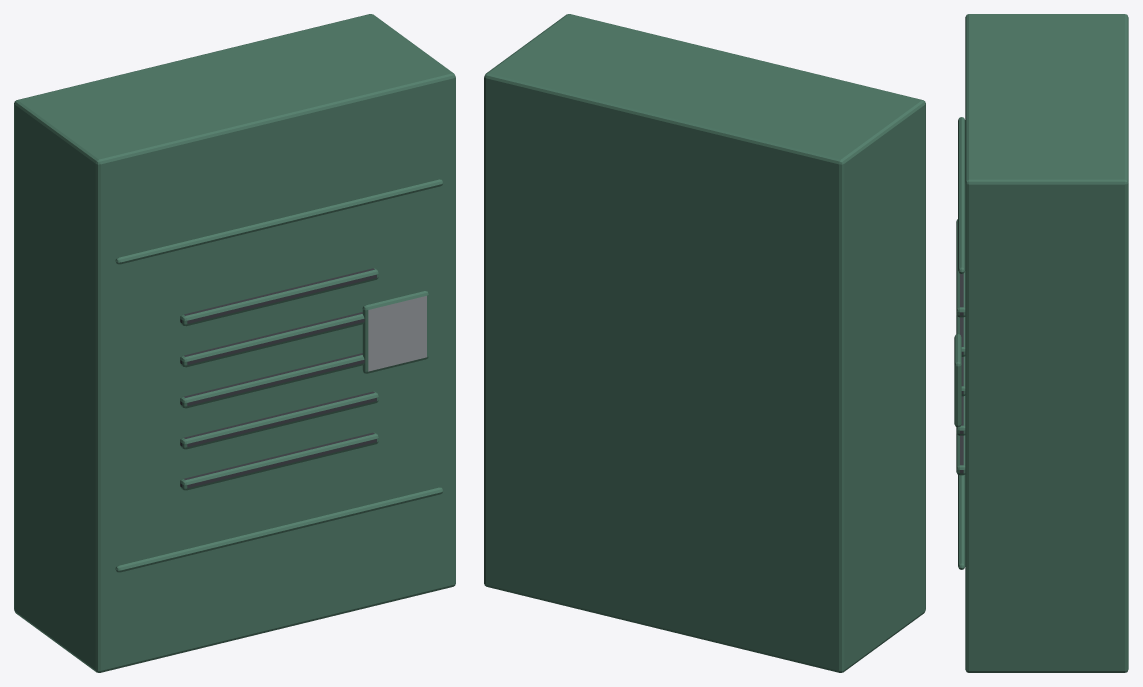
The model's file is prop_utility_cabinet.glb.
The picture shows the model from 3 angles, left to right: view 1: azimuth 30°, elevation 25°; view 2: azimuth 150°, elevation 25°; view 3: azimuth 270°, elevation 25°; orthographic projection. The views are drawn at different scales.
Parts seen in each view (by area): view 1: utility_cabinet.001; view 2: utility_cabinet.001; view 3: utility_cabinet.001.
Boxes of the visible parts, <box> form: utility_cabinet.001: <box>14,14,455,672</box>; utility_cabinet.001: <box>484,14,925,672</box>; utility_cabinet.001: <box>954,14,1128,672</box>.
Size of the model in its own units: 1.1 by 1.5 by 0.48.
